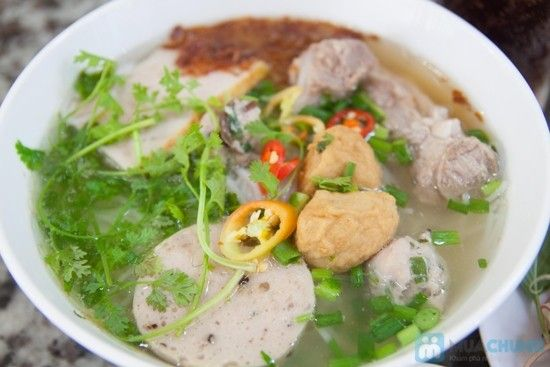chamoc: (142, 221, 319, 367), (295, 186, 398, 269), (367, 233, 451, 316), (303, 125, 380, 182)
chilli: (217, 196, 297, 259)
